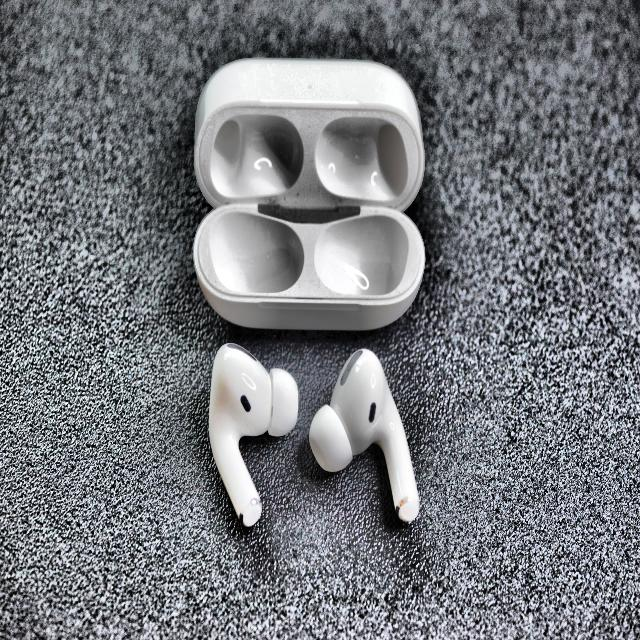Bluetooth headphones: (193, 59, 425, 330), (309, 348, 419, 521), (209, 344, 298, 526)
